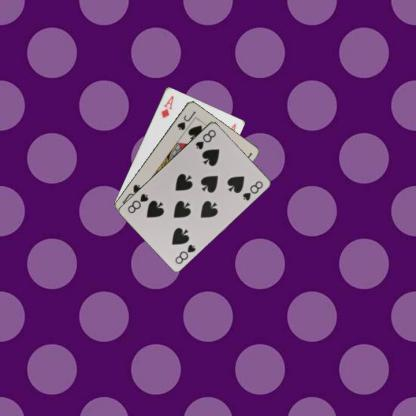8s: (172, 242, 197, 265), (193, 127, 217, 150)
Ad: (158, 93, 174, 119)
Js: (175, 108, 197, 131)
